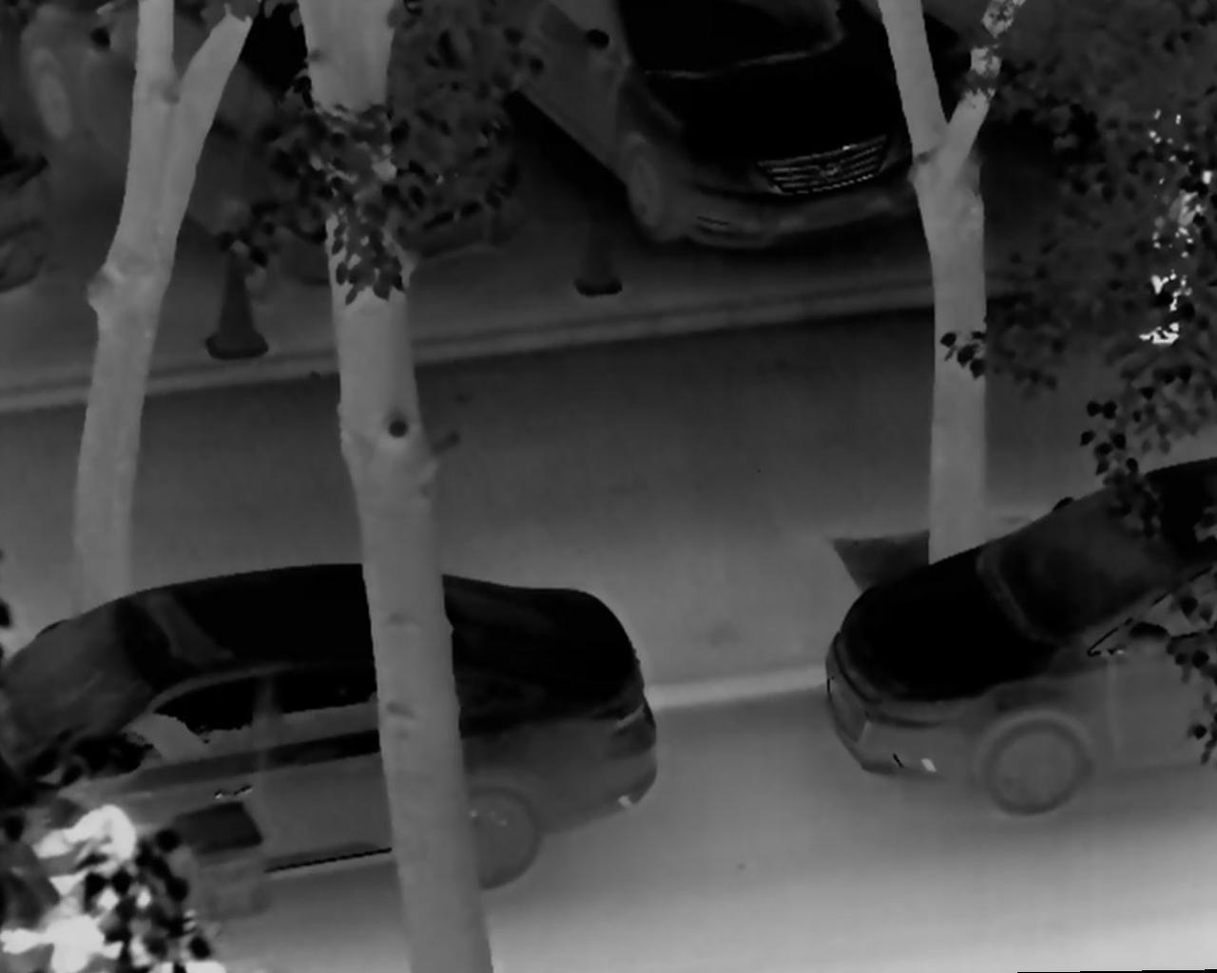person: (1132, 65, 1217, 353)
